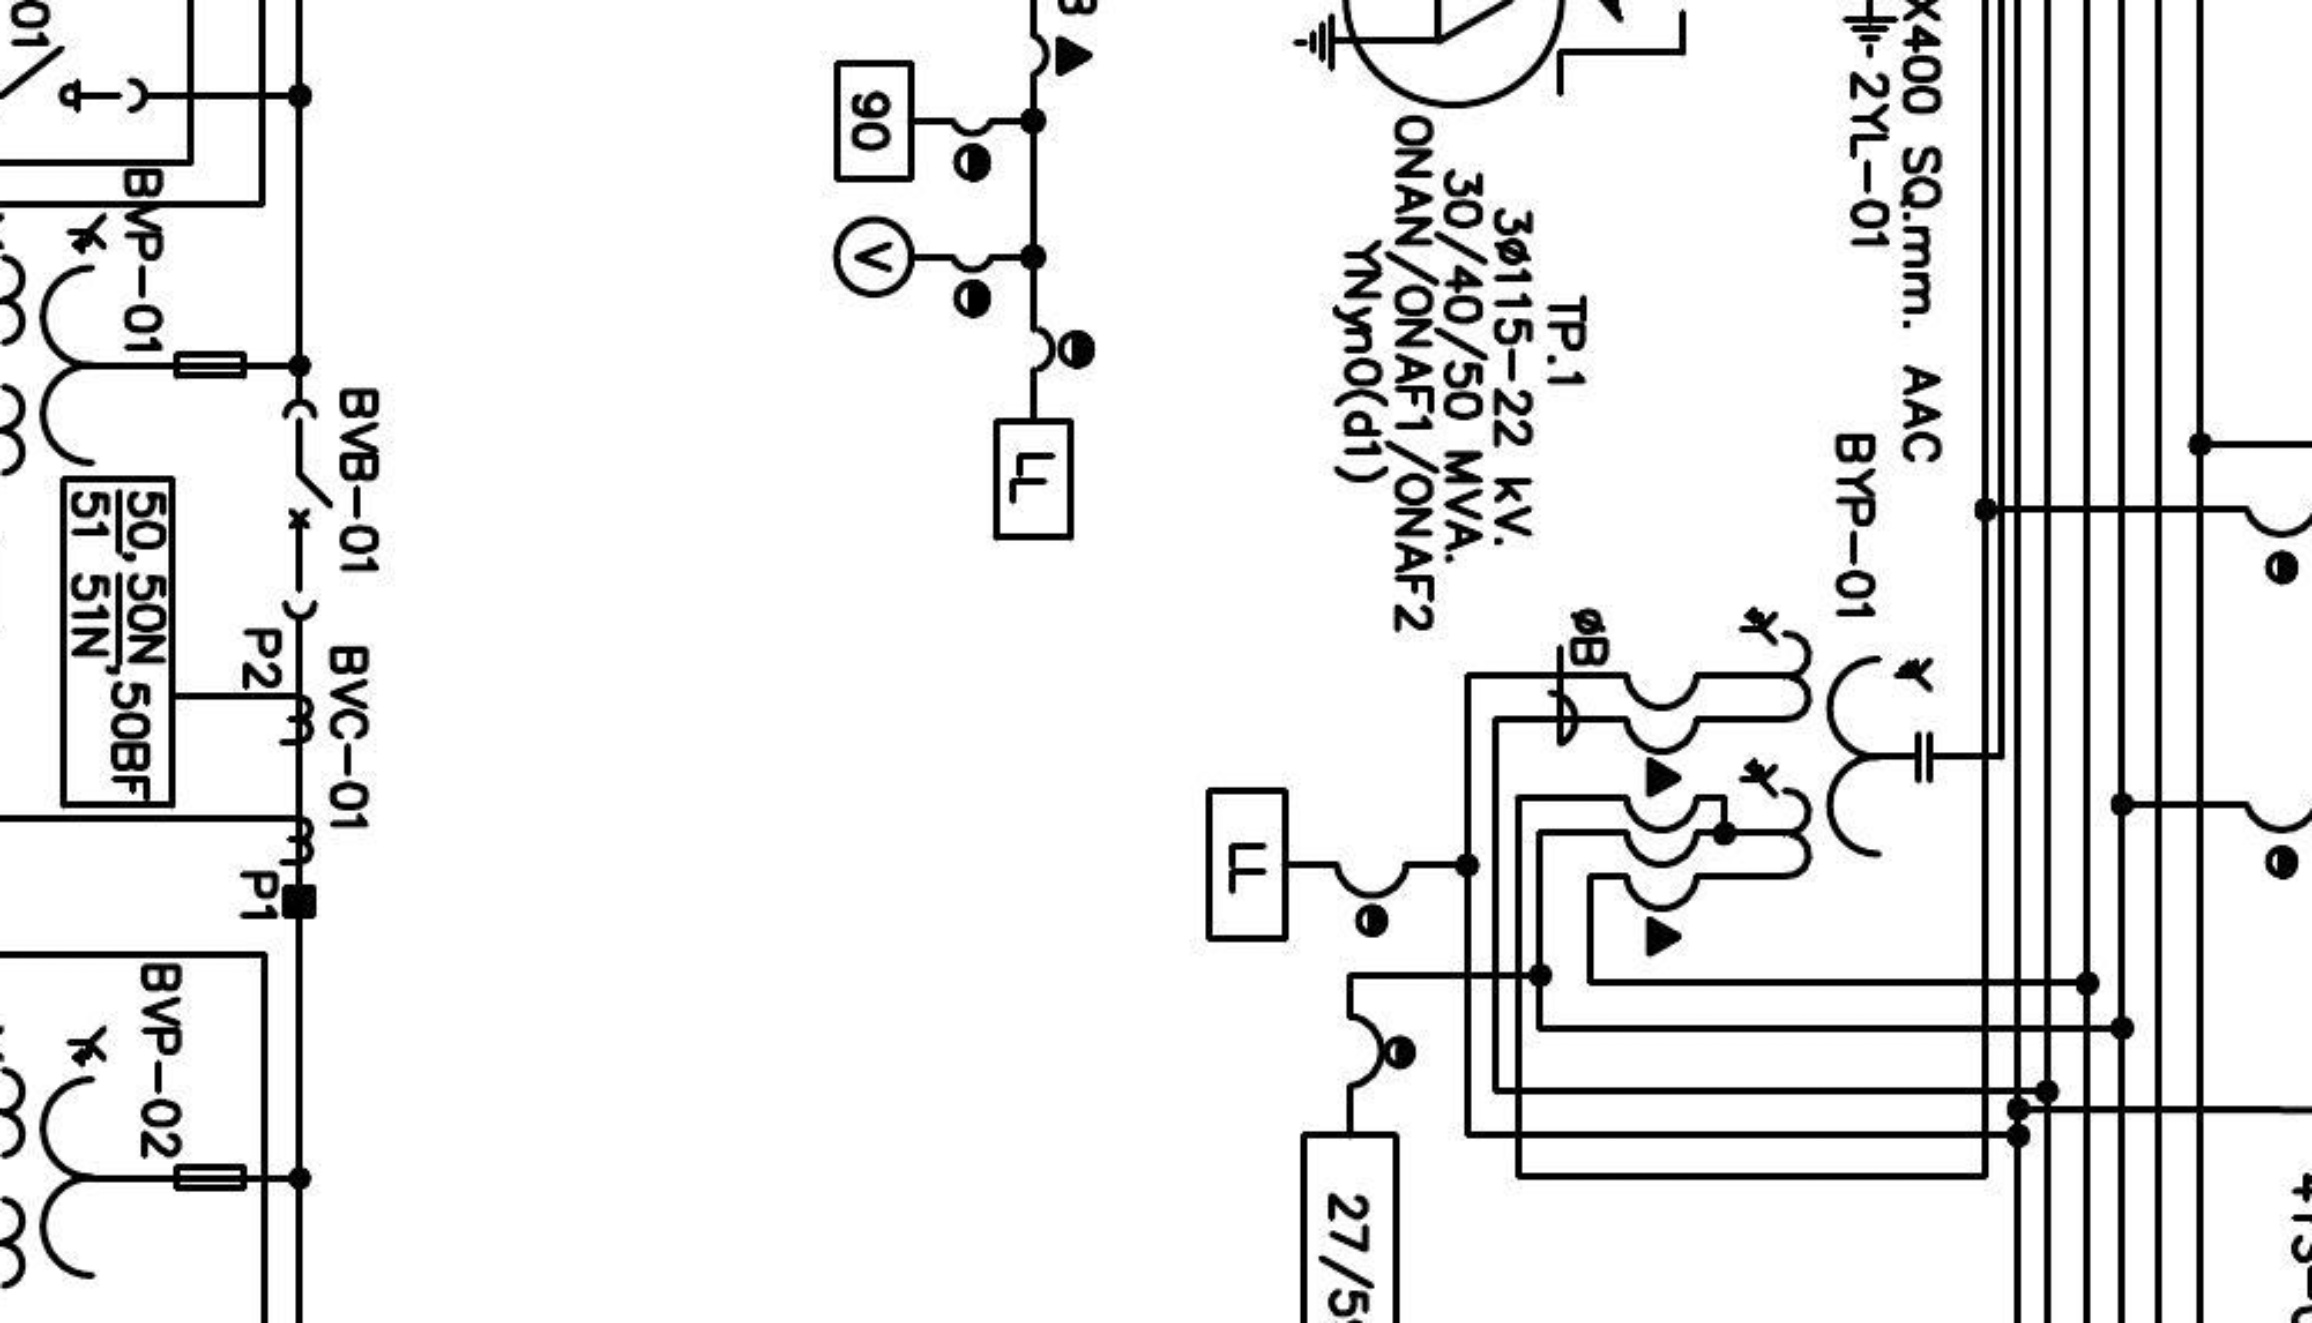115_cvt_3p: (1737, 604, 1934, 881)
22_breaker: (279, 399, 333, 621)
LL: (1205, 788, 1289, 942), (992, 418, 1073, 542)
v_m: (830, 214, 916, 300)
